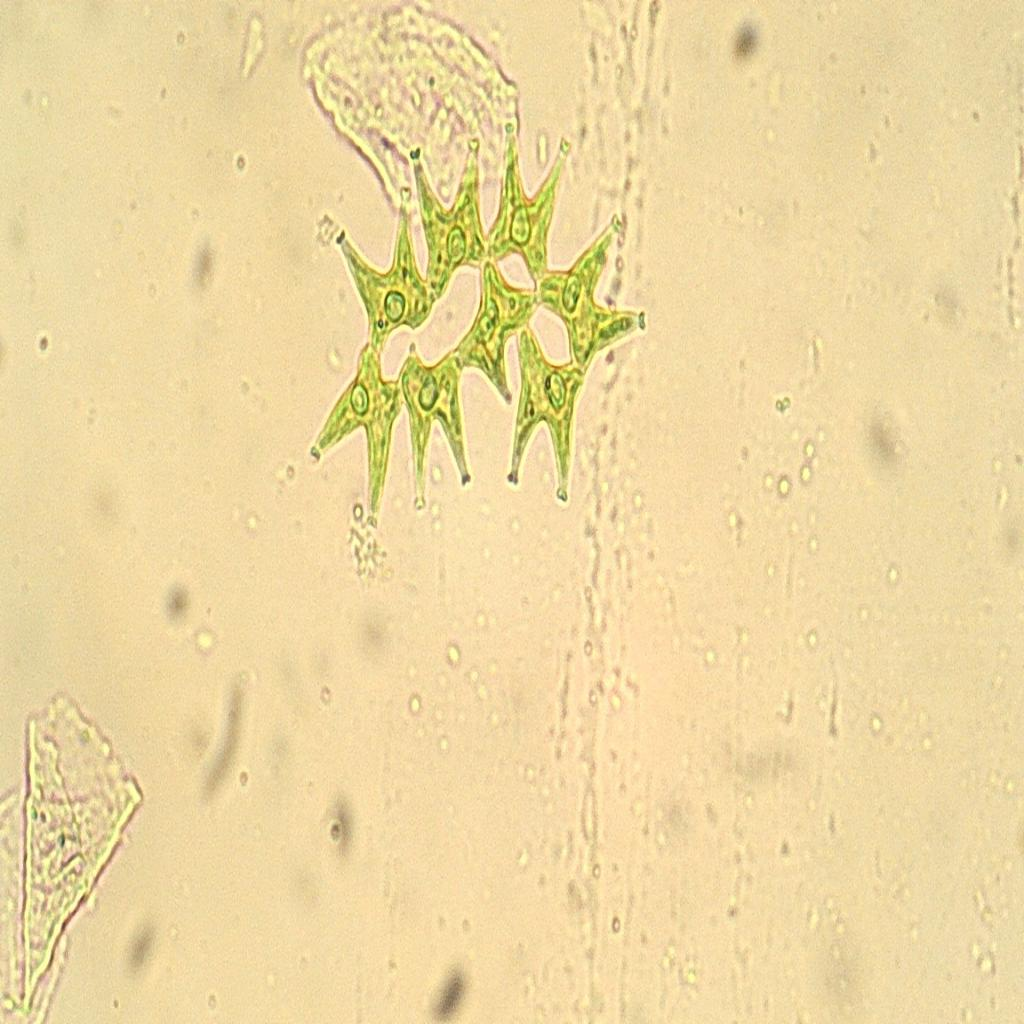Pediastrum_CFI: (302, 118, 658, 566)
